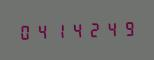four: (34, 21, 50, 40), (68, 20, 84, 39), (102, 19, 118, 38)
nine: (119, 18, 135, 37)
one: (51, 20, 67, 40)
two: (85, 19, 101, 39)
zero: (17, 22, 33, 41)
